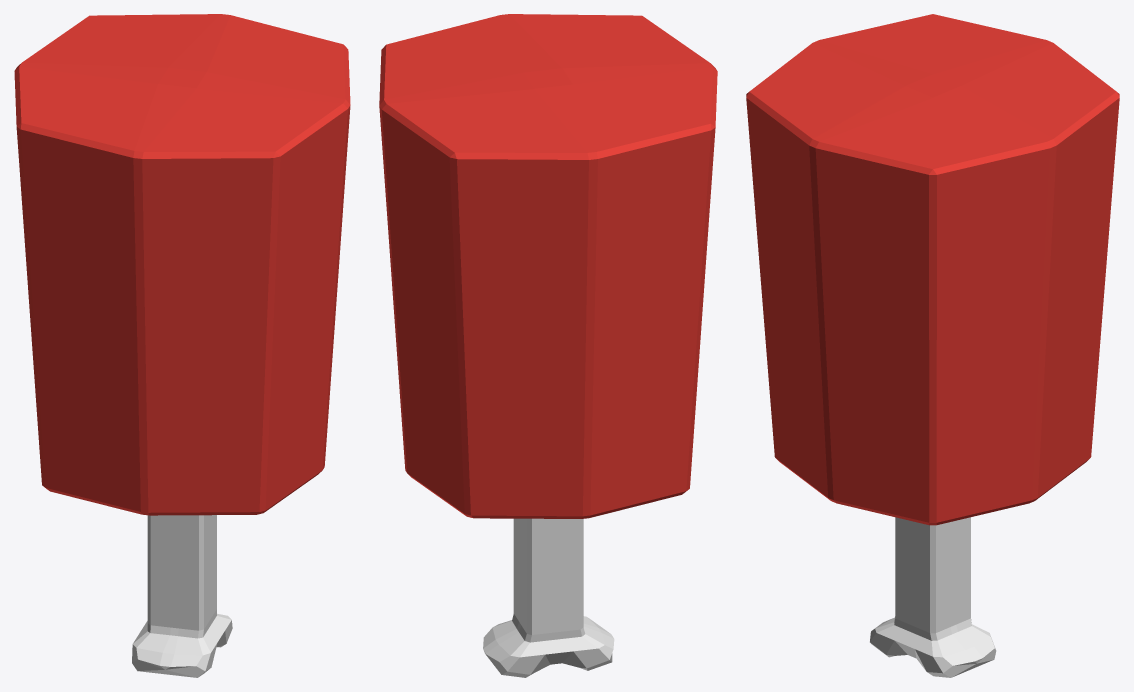
The model's file is Meat.fbx.
3 views of the same model, side by side, from view 1: azimuth 30°, elevation 25°; view 2: azimuth 150°, elevation 25°; view 3: azimuth 270°, elevation 25° (orthographic).
Visible parts, largest first — view 1: Meat; view 2: Meat; view 3: Meat.
Boxes of the visible parts, left/top/right/bottom form: Meat: left=14, top=14, right=350, bottom=677; Meat: left=379, top=14, right=717, bottom=677; Meat: left=746, top=14, right=1119, bottom=677.
Bounding box in the file's own units: 78.85 × 78.85 × 133.
